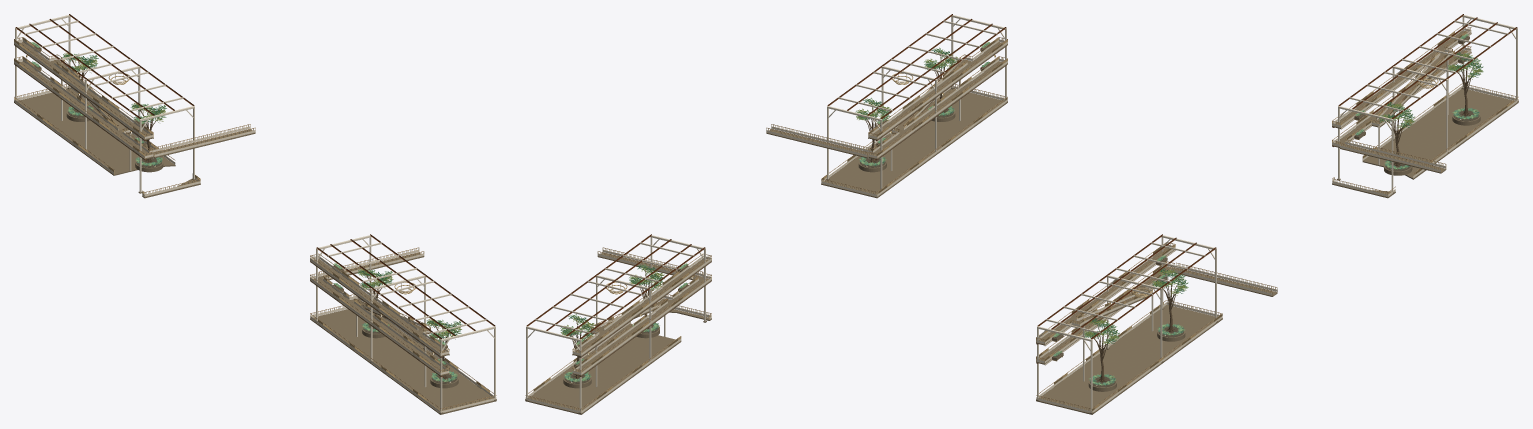
The model's file is NightGardenResortCourts_r001.glb.
3 views of the same model, side by side, from view 1: azimuth 30°, elevation 25°; view 2: azimuth 150°, elevation 25°; view 3: azimuth 330°, elevation 25° (orthographic).
Parts seen in each view (by area): view 1: Base_006, Base_007, Base_004, Fore_GuardBalusters, Aft_GuardBalusters, Base_005, Aft_Gallery_93, Aft_Gallery_97.5, Fore_Gallery_93, Fore_Gallery_97.5, Fore_D15_ReceivingBridge; view 2: Base_006, Base_004, Base_007, Aft_GuardBalusters, Fore_GuardBalusters, Base_005, Fore_Gallery_93, Fore_Gallery_97.5, Aft_Gallery_93, Aft_Gallery_97.5, Base_003, Aft_D15_ReceivingBridge; view 3: Base_006, Base_007, Base_004, Aft_GuardBalusters, Fore_GuardBalusters, Base_005, Base_003, Fore_Gallery_97.5, Aft_Gallery_97.5, Aft_Gallery_93, Fore_Gallery_93, Fore_D15_ReceivingBridge (+1 smaller).
Part boxes in pixels (x1,y1,x2,y2): Base_006: (310, 309, 440, 414); Base_007: (372, 313, 496, 414); Base_004: (18, 89, 137, 161); Fore_GuardBalusters: (14, 37, 255, 196); Aft_GuardBalusters: (310, 248, 493, 410); Base_005: (14, 102, 137, 175); Aft_Gallery_93: (310, 277, 449, 376); Aft_Gallery_97.5: (310, 259, 449, 356); Fore_Gallery_93: (14, 61, 153, 159); Fore_Gallery_97.5: (14, 42, 153, 140); Fore_D15_ReceivingBridge: (150, 129, 255, 158); Base_006: (821, 102, 1007, 198); Base_004: (525, 337, 643, 414); Base_007: (824, 89, 1003, 181); Aft_GuardBalusters: (766, 37, 1007, 195); Fore_GuardBalusters: (528, 248, 711, 410); Base_005: (581, 335, 681, 414); Fore_Gallery_93: (572, 277, 711, 376); Fore_Gallery_97.5: (572, 259, 711, 356); Aft_Gallery_93: (868, 61, 1007, 159); Aft_Gallery_97.5: (868, 42, 1007, 140); Base_003: (528, 323, 639, 398); Aft_D15_ReceivingBridge: (766, 129, 871, 158); Base_006: (1039, 304, 1214, 398); Base_007: (1036, 318, 1222, 414); Base_004: (1406, 89, 1514, 160); Aft_GuardBalusters: (1036, 243, 1277, 412); Fore_GuardBalusters: (1332, 27, 1515, 196); Base_005: (1362, 89, 1461, 167); Base_003: (1405, 102, 1518, 179); Fore_Gallery_97.5: (1332, 30, 1471, 128); Aft_Gallery_97.5: (1036, 247, 1174, 345); Aft_Gallery_93: (1036, 266, 1174, 364); Fore_Gallery_93: (1332, 50, 1470, 147); Fore_D15_ReceivingBridge: (1340, 144, 1446, 173).
Bounding box in the file's own units: 26.95 × 17.69 × 181.
Materials: 24 (18 with a texture image).
